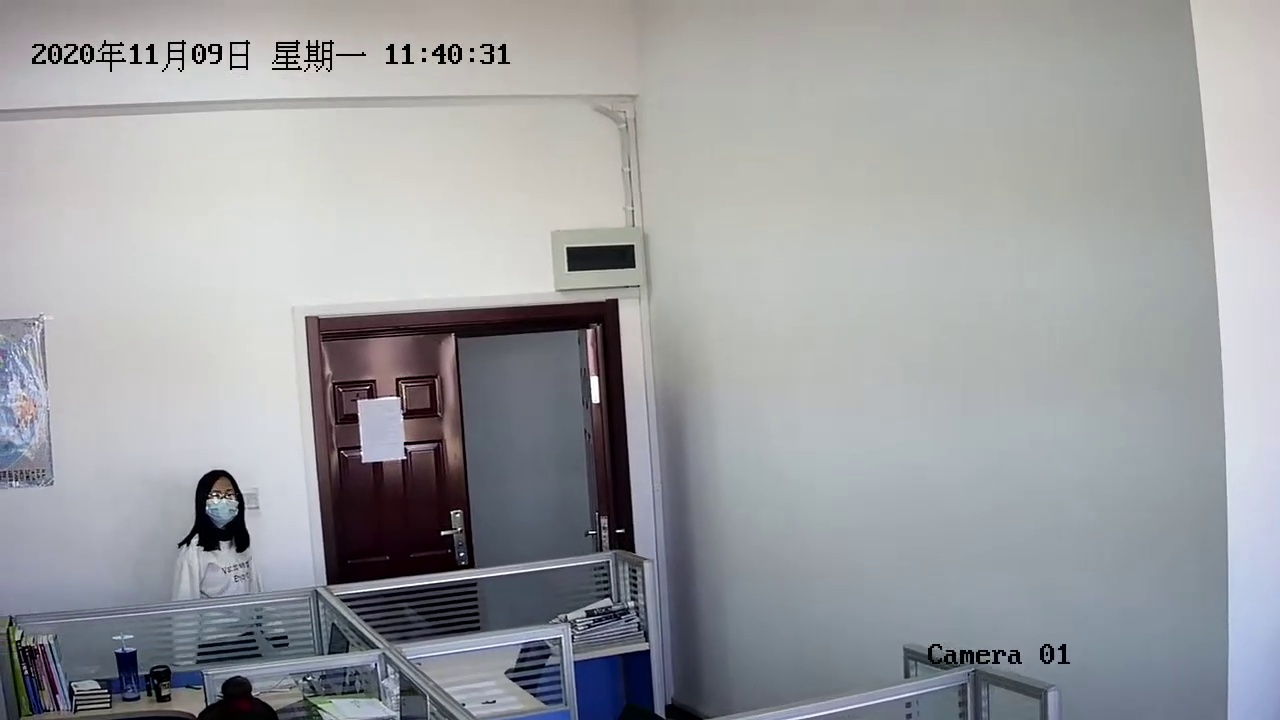mask: (192, 467, 248, 540)
